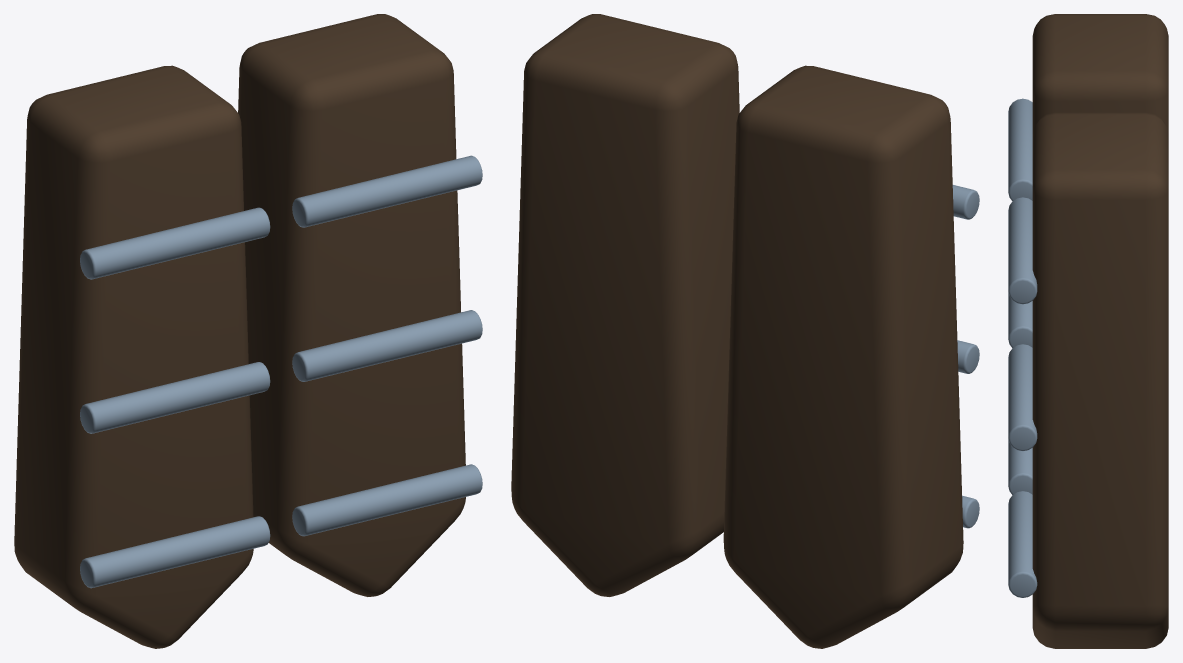
The model's file is greaves_v4.glb.
3 renders of one model, left to right at view 1: azimuth 30°, elevation 25°; view 2: azimuth 150°, elevation 25°; view 3: azimuth 270°, elevation 25°, orthographic. The views are drawn at different scales.
Visible parts, largest first — view 1: HIDE_GREAVE_SECONDARY, HIDE_GREAVE_SECONDARY.001, HIDE_STRAP_PRIMARY.005, HIDE_STRAP_PRIMARY.003, HIDE_STRAP_PRIMARY.002, HIDE_STRAP_PRIMARY.004, HIDE_STRAP_PRIMARY, HIDE_STRAP_PRIMARY.001; view 2: HIDE_GREAVE_SECONDARY, HIDE_GREAVE_SECONDARY.001, HIDE_STRAP_PRIMARY.002; view 3: HIDE_GREAVE_SECONDARY.001, HIDE_GREAVE_SECONDARY, HIDE_STRAP_PRIMARY.005, HIDE_STRAP_PRIMARY.004, HIDE_STRAP_PRIMARY.003, HIDE_STRAP_PRIMARY.002, HIDE_STRAP_PRIMARY.001, HIDE_STRAP_PRIMARY.
Boxes of the visible parts, left/top/right/bottom form: HIDE_GREAVE_SECONDARY: left=14, top=65, right=253, bottom=648; HIDE_GREAVE_SECONDARY.001: left=238, top=14, right=465, bottom=596; HIDE_STRAP_PRIMARY.005: left=292, top=155, right=482, bottom=227; HIDE_STRAP_PRIMARY.003: left=292, top=464, right=482, bottom=536; HIDE_STRAP_PRIMARY.002: left=80, top=207, right=270, bottom=279; HIDE_STRAP_PRIMARY.004: left=292, top=310, right=482, bottom=381; HIDE_STRAP_PRIMARY: left=80, top=516, right=270, bottom=588; HIDE_STRAP_PRIMARY.001: left=80, top=362, right=270, bottom=433; HIDE_GREAVE_SECONDARY: left=723, top=65, right=963, bottom=648; HIDE_GREAVE_SECONDARY.001: left=511, top=14, right=739, bottom=596; HIDE_STRAP_PRIMARY.002: left=952, top=185, right=979, bottom=219; HIDE_GREAVE_SECONDARY.001: left=1032, top=112, right=1168, bottom=648; HIDE_GREAVE_SECONDARY: left=1032, top=14, right=1168, bottom=133; HIDE_STRAP_PRIMARY.005: left=1008, top=197, right=1037, bottom=304; HIDE_STRAP_PRIMARY.004: left=1008, top=344, right=1037, bottom=450; HIDE_STRAP_PRIMARY.003: left=1008, top=491, right=1037, bottom=597; HIDE_STRAP_PRIMARY.002: left=1008, top=98, right=1032, bottom=200; HIDE_STRAP_PRIMARY.001: left=1008, top=292, right=1032, bottom=347; HIDE_STRAP_PRIMARY: left=1008, top=439, right=1032, bottom=494.
Bounding box in the file's own units: 1.36 × 1.72 × 0.495.
